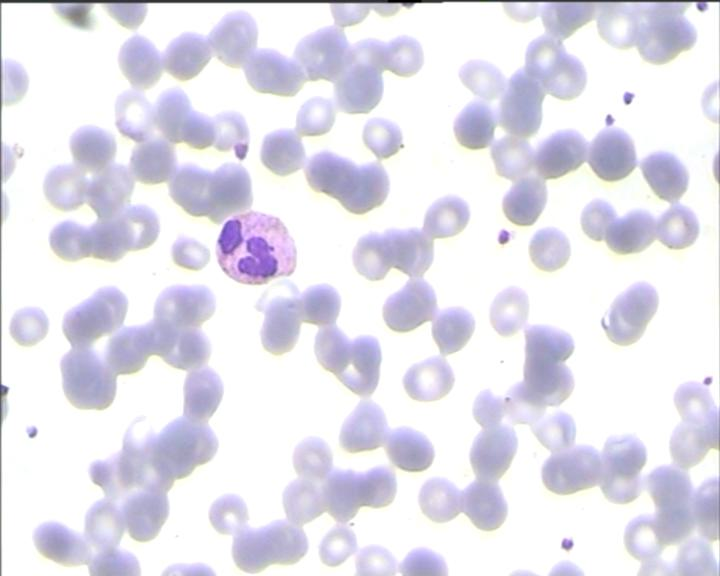neut: (211, 205, 302, 286)
